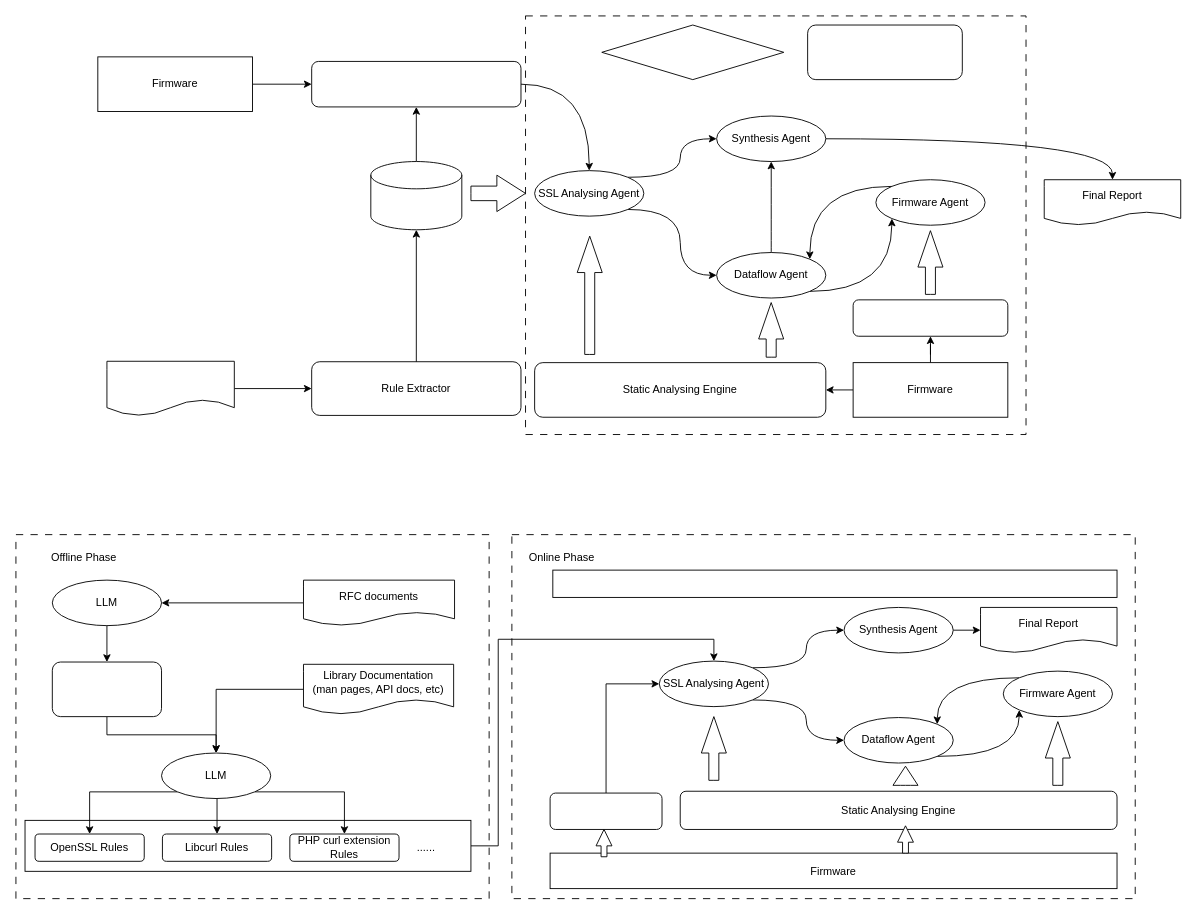
Some shapes in this 1197 by 915 pixel diagram are drawn without their labels. Here are the shapes that lost their labels. From the top down, the centre of each, then its label:
At [692,52]: "State".
At [884,52]: "Context Management".
At [416,84]: "SSL Client Scanner".
At [416,195]: "Rule Database".
At [930,317]: "Firmware Exploring Engine".
At [170,388]: "RFC / CWE / man page / docs".
At [834,583]: "Shared State Storage".
At [106,689]: "Implementation-Agnostic security rules".
At [605,810]: "Target Discovery".
